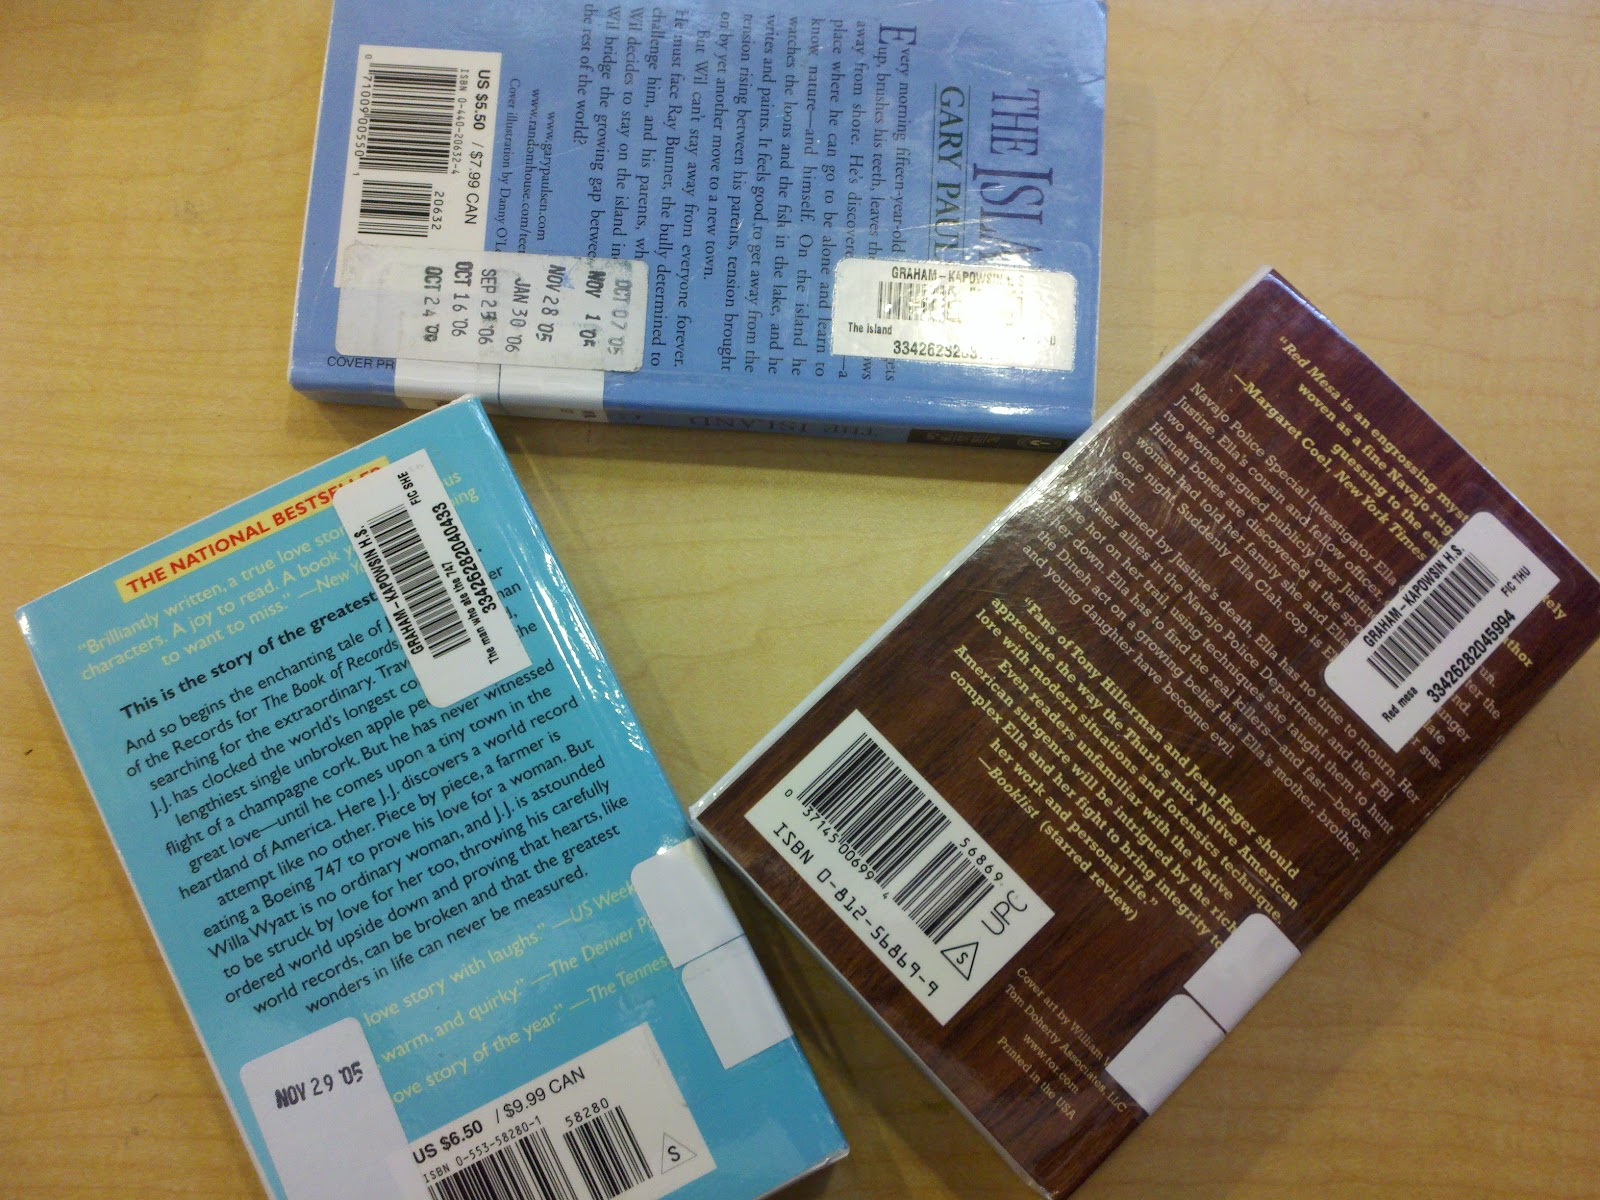barcode: (728, 673, 1018, 957), (336, 458, 530, 695), (333, 21, 504, 268), (386, 1068, 659, 1200), (1327, 509, 1512, 701), (819, 251, 1078, 359)
